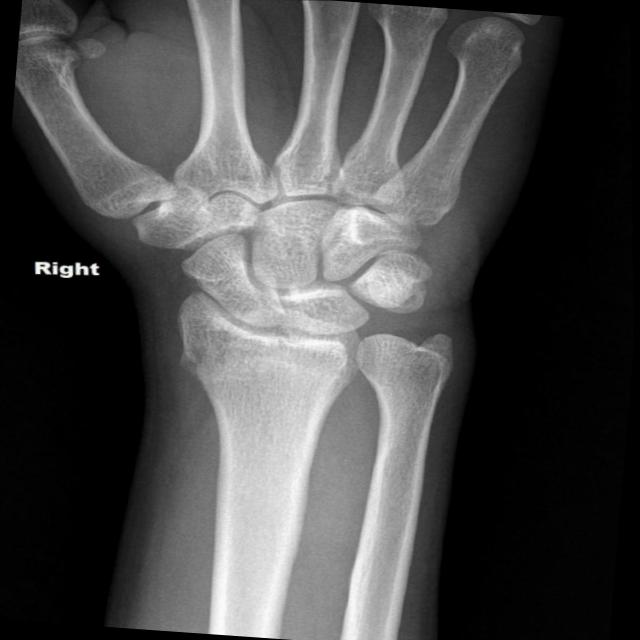Healthy: (22, 2, 556, 598)
